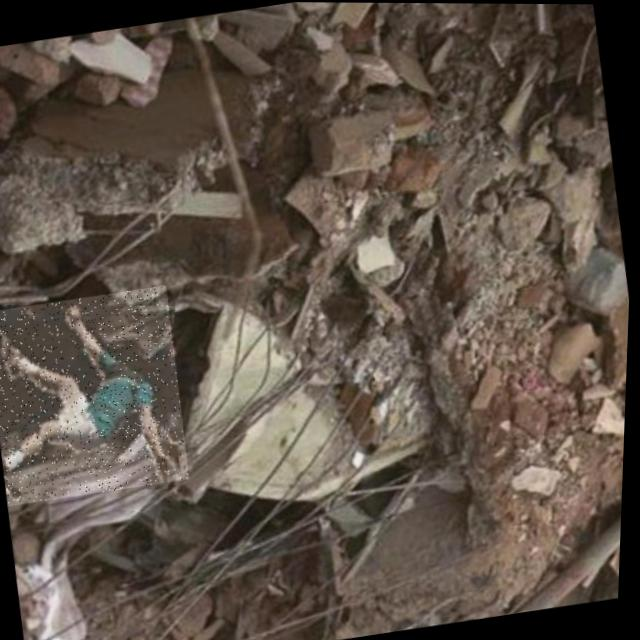Person in Rubble: (0, 284, 198, 507)
